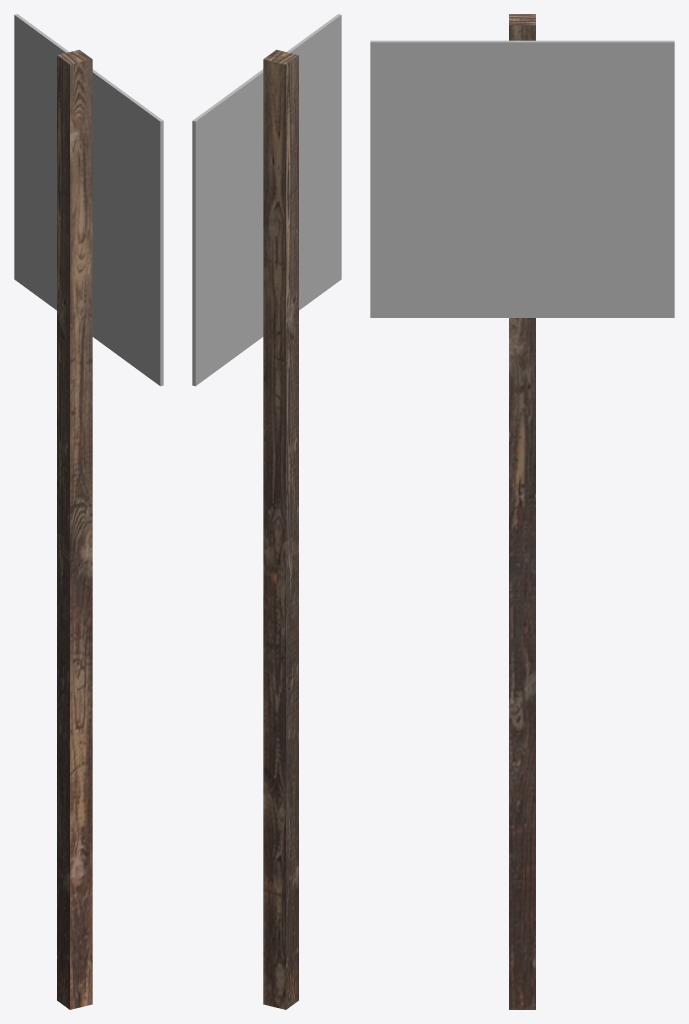
The model's file is YOS_Sign_29_30.fbx.
3 views of the same model, side by side, from view 1: azimuth 30°, elevation 25°; view 2: azimuth 150°, elevation 25°; view 3: azimuth 270°, elevation 25° (orthographic). The views are drawn at different scales.
Parts seen in each view (by area): view 1: WoodPost_2, Plane_1; view 2: WoodPost_2, Plane_1; view 3: Plane_1, WoodPost_2.
Part boxes in pixels (left/top/right/bottom): WoodPost_2: left=57, top=49, right=92, bottom=1009; Plane_1: left=14, top=14, right=163, bottom=386; WoodPost_2: left=263, top=49, right=298, bottom=1009; Plane_1: left=192, top=14, right=341, bottom=386; Plane_1: left=370, top=40, right=674, bottom=317; WoodPost_2: left=509, top=14, right=535, bottom=1009.
Bounding box in the file's own units: 6.02 × 200 × 56.
